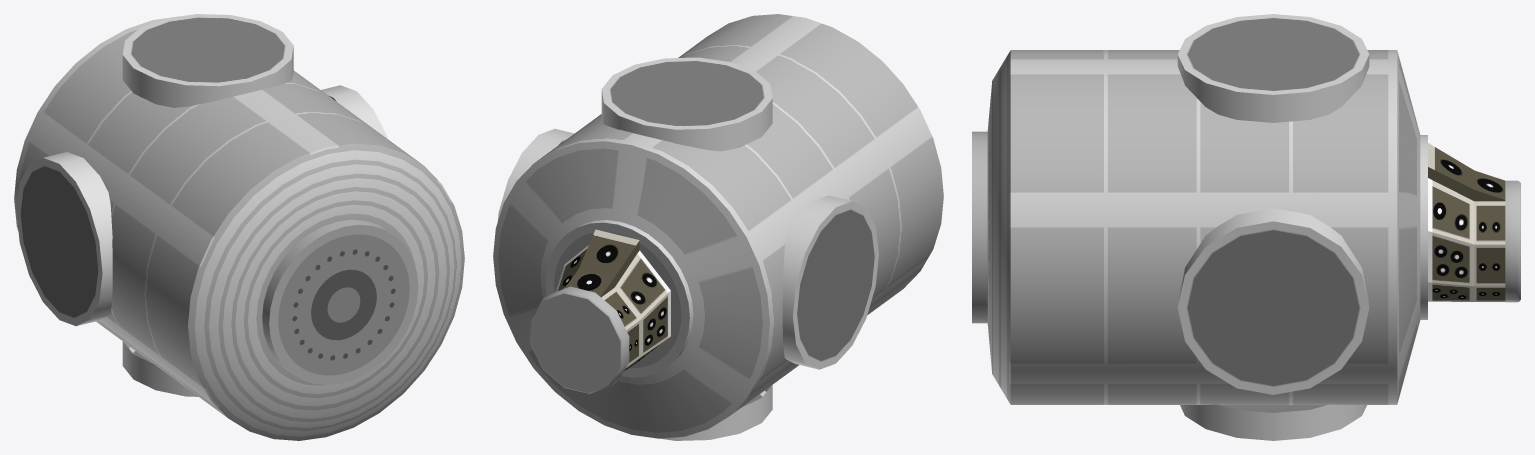
File: iss_unity.fbx
3 views of the same model, side by side, from view 1: azimuth 30°, elevation 25°; view 2: azimuth 150°, elevation 25°; view 3: azimuth 270°, elevation 25° (orthographic). The views are drawn at different scales.
Parts seen in each view (by area): view 1: unity; view 2: unity; view 3: unity.
Boxes of the visible parts, left/top/right/bottom form: unity: left=14, top=14, right=464, bottom=440; unity: left=493, top=14, right=943, bottom=440; unity: left=972, top=14, right=1520, bottom=440.
Size of what is drawn, in the model's own units: 4.94 by 4.94 by 7.1.
